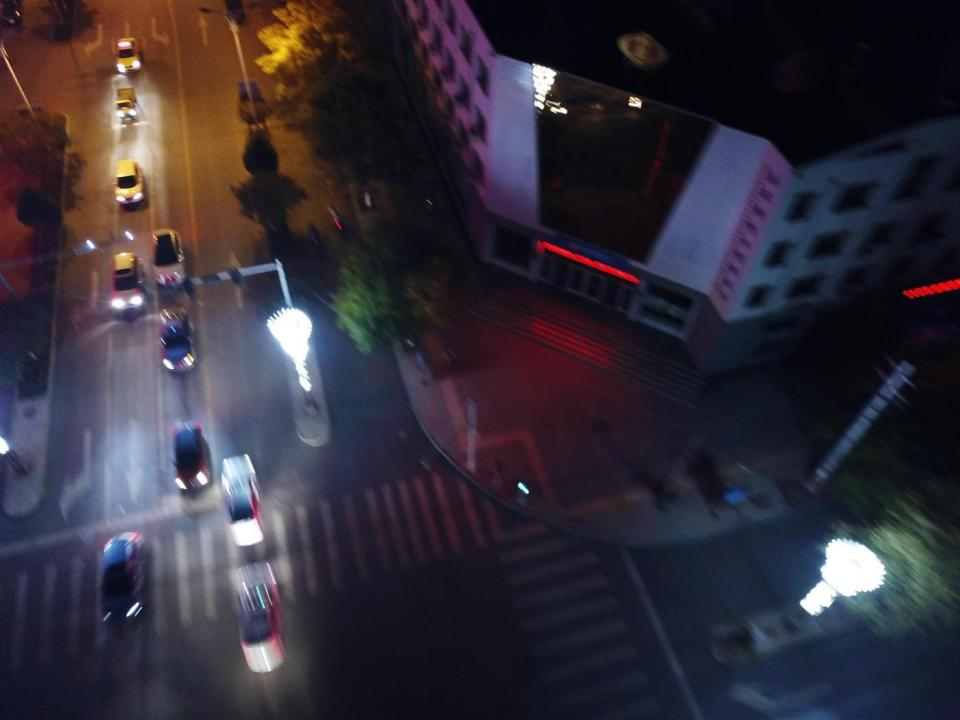car: (237, 561, 287, 671), (221, 454, 266, 546), (101, 532, 144, 624), (171, 421, 210, 490), (160, 307, 197, 373), (112, 252, 146, 312), (151, 228, 185, 286), (115, 160, 144, 203), (116, 37, 142, 73), (0, 0, 23, 26), (226, 1, 244, 23)
truck: (117, 87, 137, 118)
